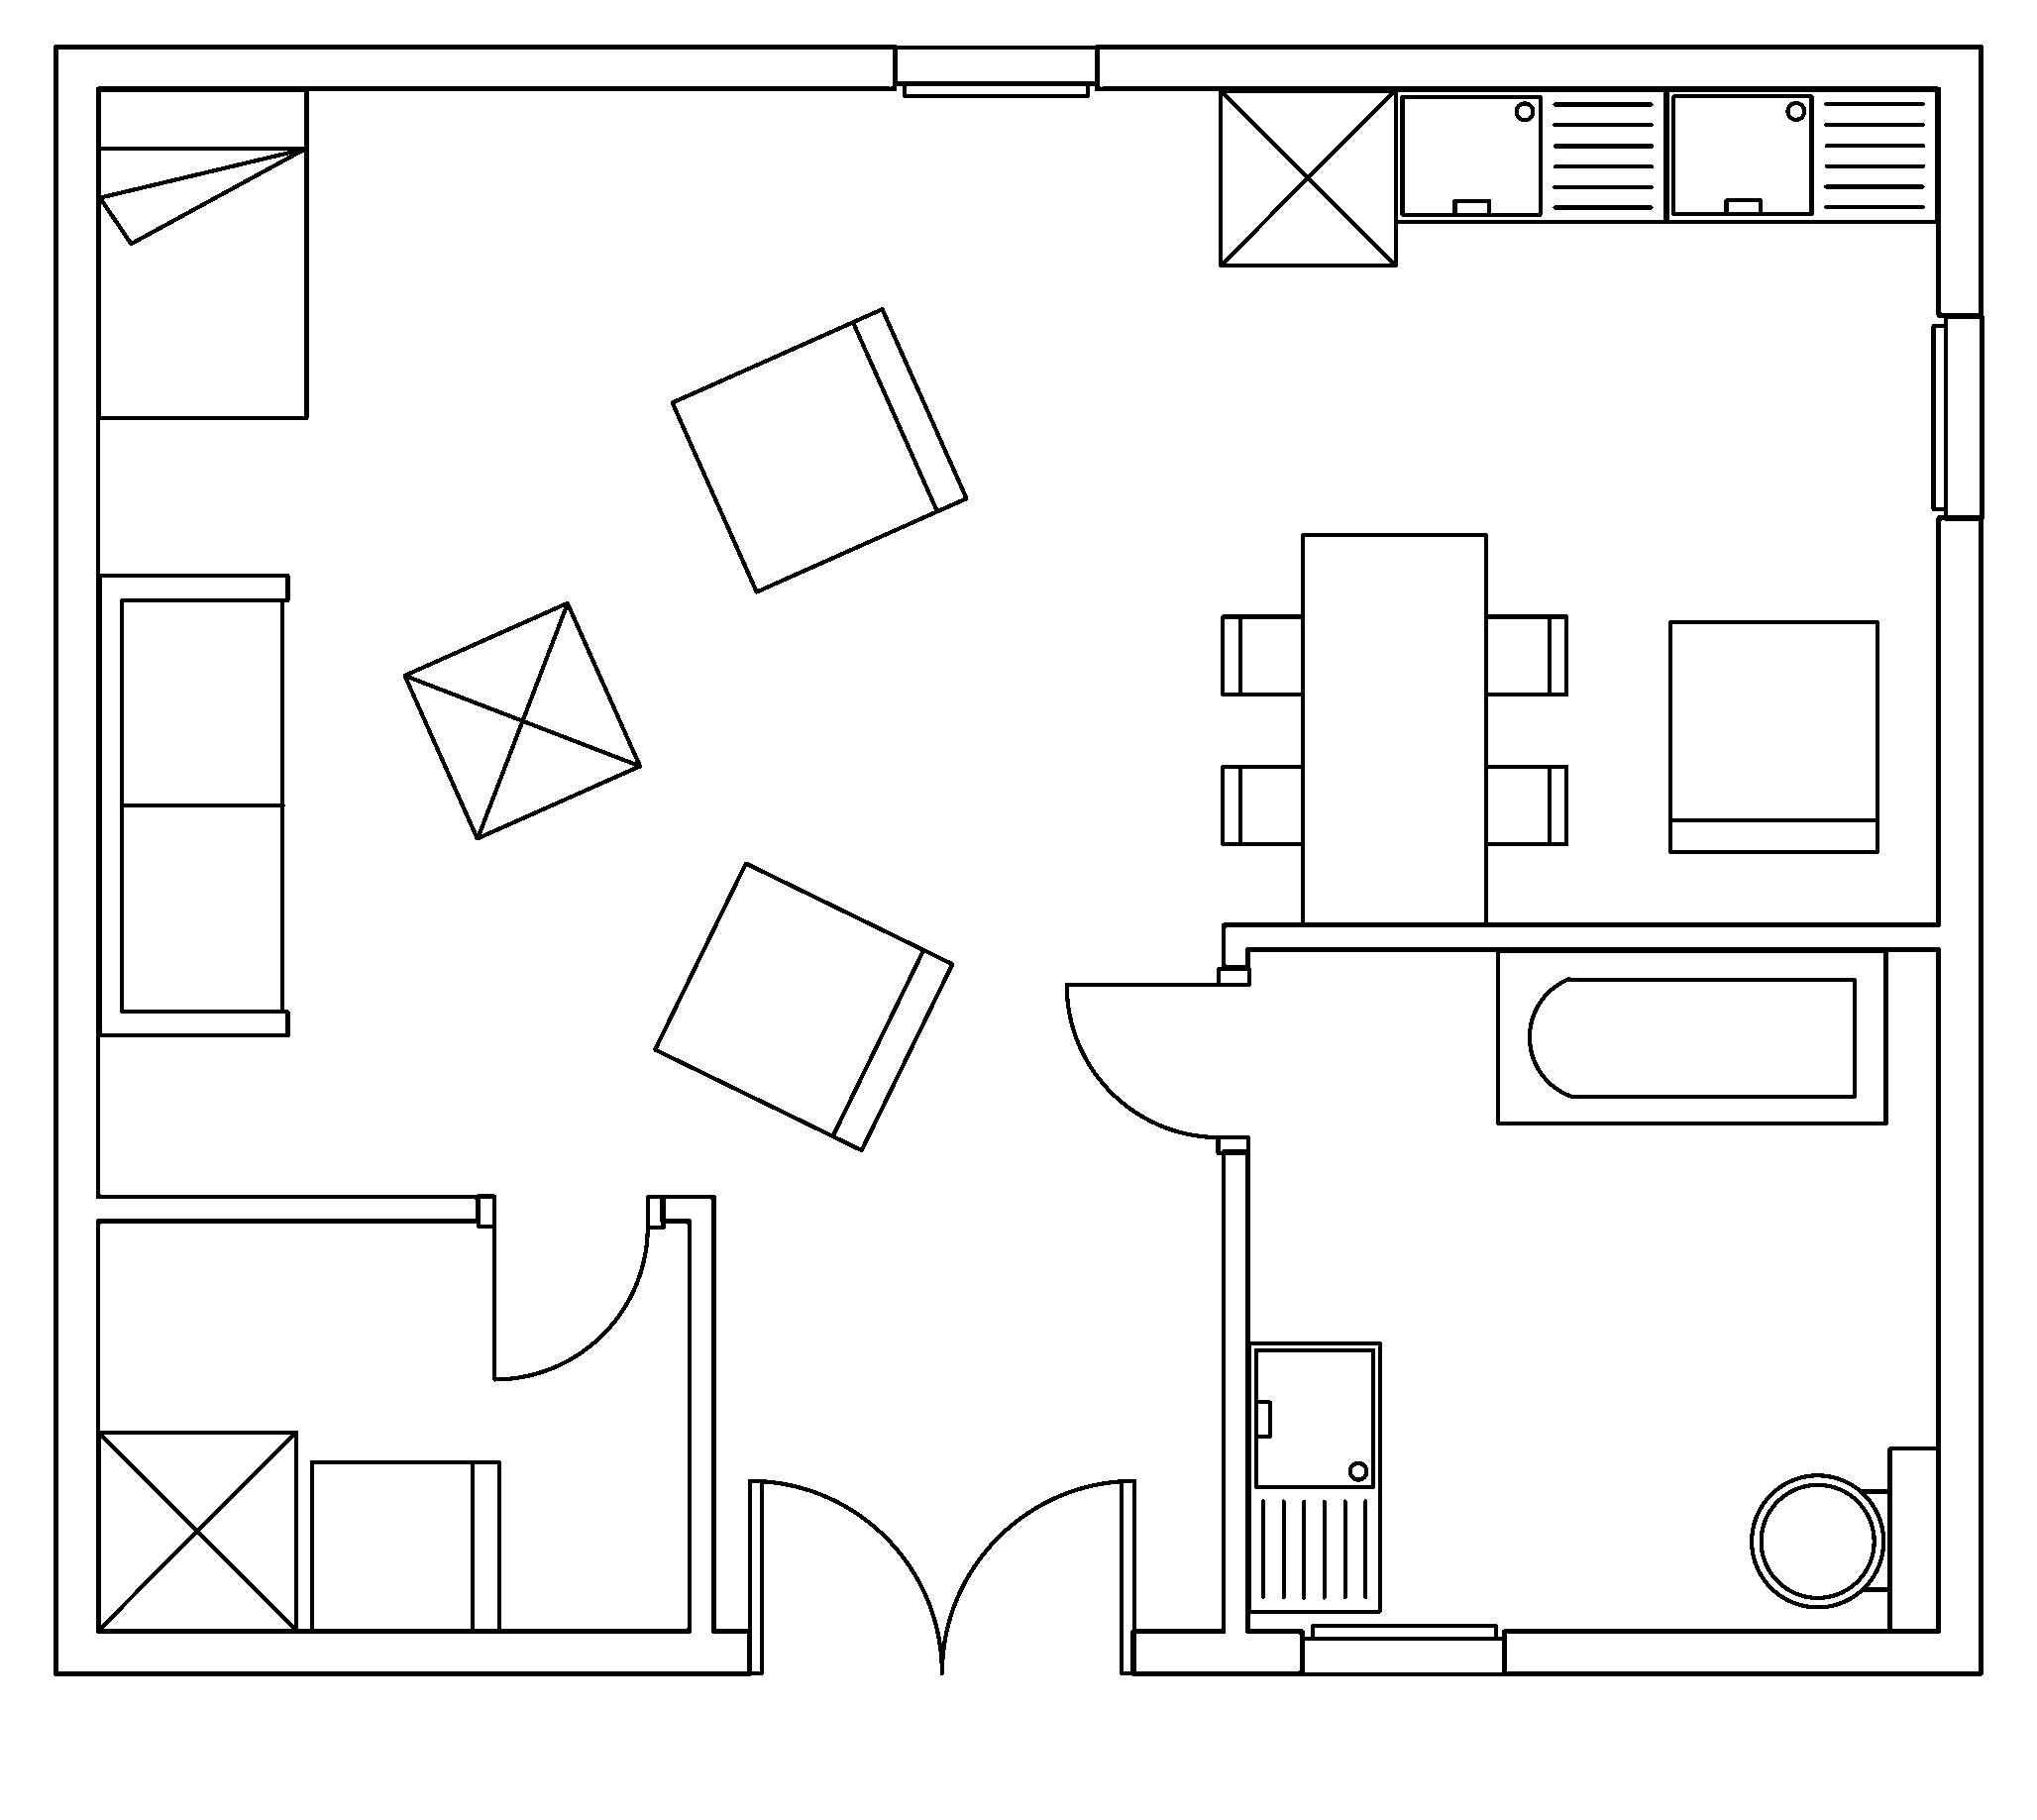bed: (95, 86, 309, 420)
coffee_table: (400, 599, 643, 840), (95, 1428, 299, 1632), (1217, 86, 1398, 267)
dining_table: (1219, 531, 1568, 926)
large_sink: (1749, 1444, 1940, 1632)
large_sofa: (95, 571, 290, 1036)
sink: (1663, 86, 1940, 223), (1245, 1339, 1382, 1614), (1393, 86, 1668, 223)
small_sofa: (651, 859, 954, 1152), (669, 306, 969, 594), (1666, 618, 1879, 854), (307, 1458, 500, 1632)
tub: (1494, 947, 1888, 1126)
